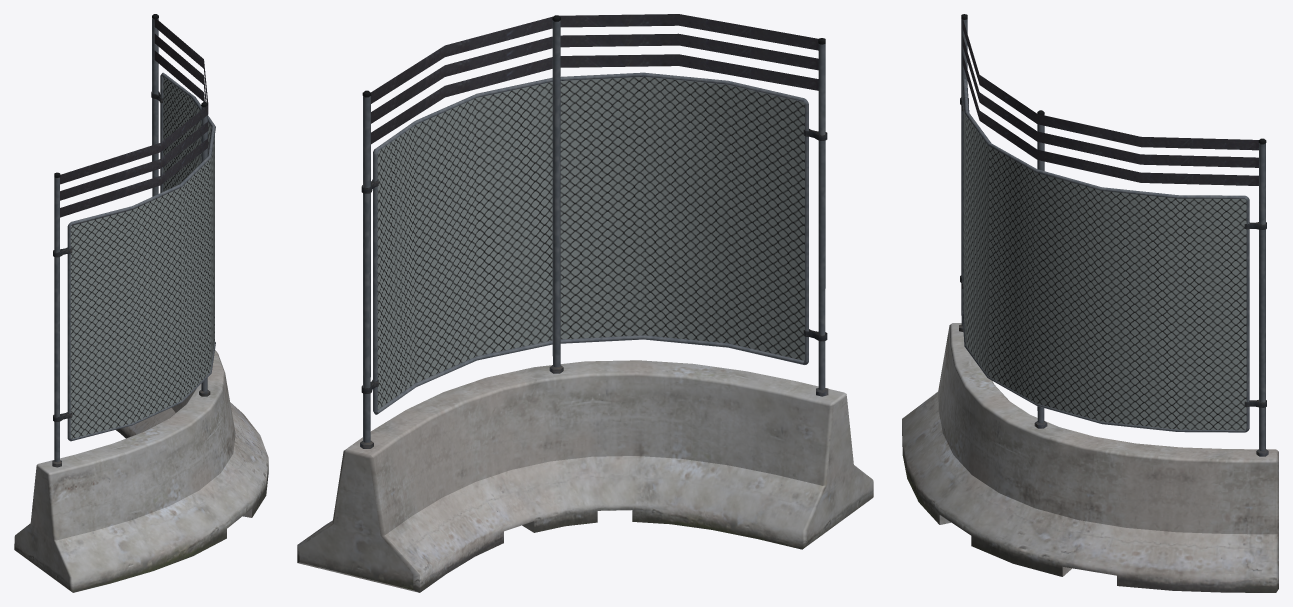
Rendered from Fence_C_F.fbx.
3 renders of one model, left to right at view 1: azimuth 30°, elevation 25°; view 2: azimuth 150°, elevation 25°; view 3: azimuth 270°, elevation 25°, orthographic. The views are drawn at different scales.
Visible parts, largest first — view 1: Fence_C_F_Wire_LOD0, Fence_C_F_LOD0; view 2: Fence_C_F_Wire_LOD0, Fence_C_F_LOD0; view 3: Fence_C_F_Wire_LOD0, Fence_C_F_LOD0.
Part boxes in pixels (left/top/right/bottom): Fence_C_F_Wire_LOD0: left=60, top=17, right=214, bottom=438; Fence_C_F_LOD0: left=14, top=14, right=268, bottom=592; Fence_C_F_Wire_LOD0: left=371, top=14, right=818, bottom=409; Fence_C_F_LOD0: left=297, top=15, right=873, bottom=592; Fence_C_F_Wire_LOD0: left=962, top=18, right=1258, bottom=430; Fence_C_F_LOD0: left=902, top=14, right=1278, bottom=592.
Size of what is drawn, in the model's own units: 240 by 300 by 240.
